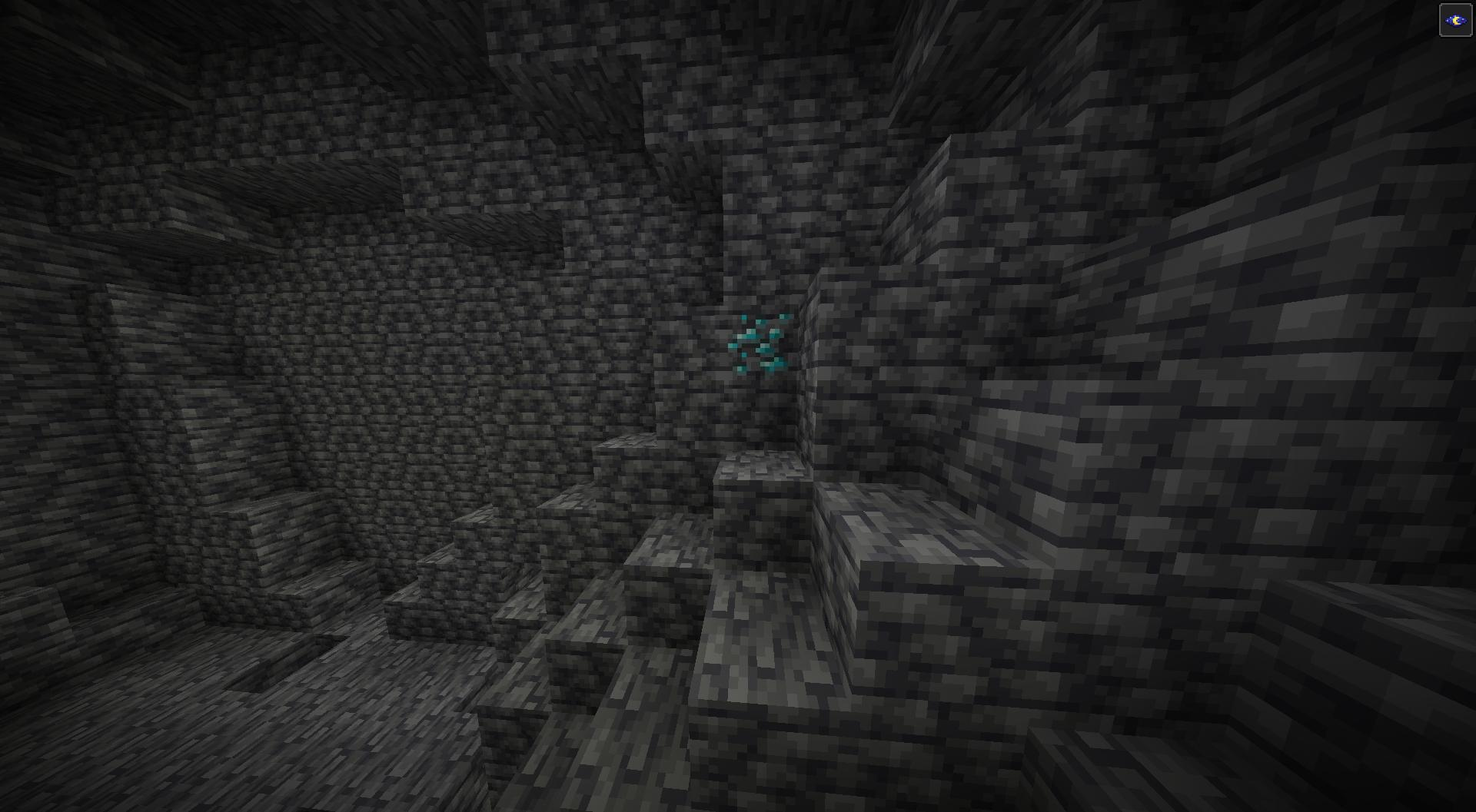diamond ore: (723, 309, 790, 376)
